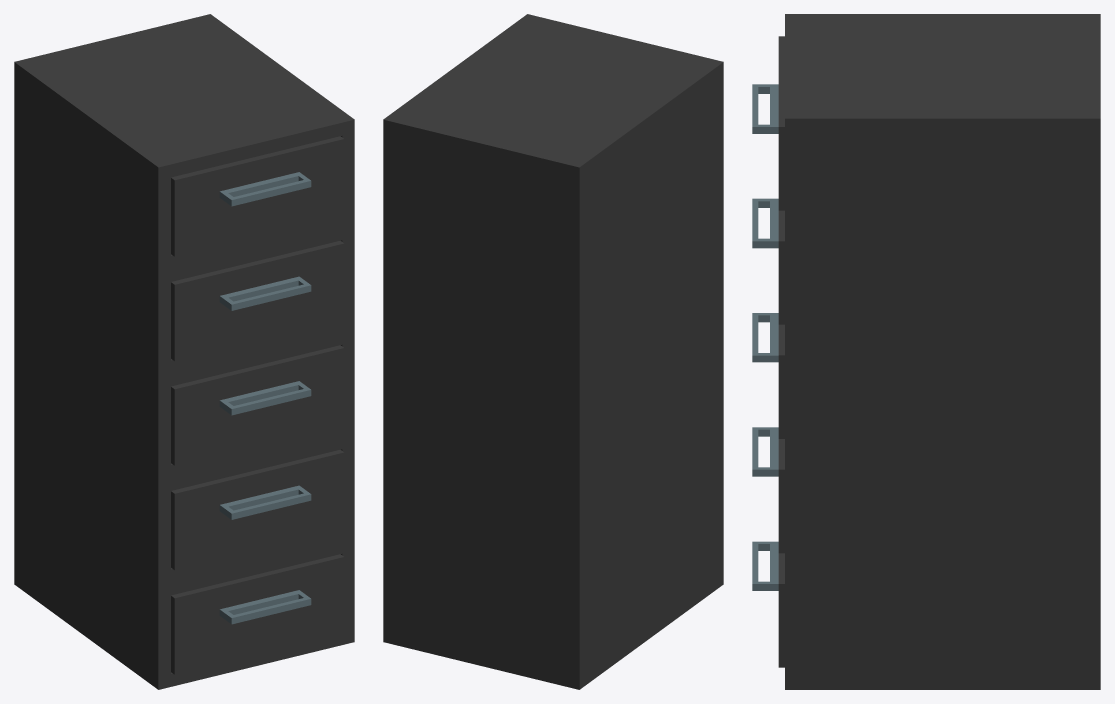
The model's file is CabinetXLargeV1Black.fbx.
3 views of the same model, side by side, from view 1: azimuth 30°, elevation 25°; view 2: azimuth 150°, elevation 25°; view 3: azimuth 270°, elevation 25° (orthographic). The views are drawn at different scales.
Parts seen in each view (by area): view 1: CabinetXLargeV1Black, CabinetXLargeV1Black_Drawer1, CabinetXLargeV1Black_Drawer5, CabinetXLargeV1Black_Drawer4, CabinetXLargeV1Black_Drawer2, CabinetXLargeV1Black_Drawer3; view 2: CabinetXLargeV1Black; view 3: CabinetXLargeV1Black, CabinetXLargeV1Black_Drawer1, CabinetXLargeV1Black_Drawer2, CabinetXLargeV1Black_Drawer5, CabinetXLargeV1Black_Drawer4, CabinetXLargeV1Black_Drawer3.
Part boxes in pixels (x1,y1,x2,y2): CabinetXLargeV1Black: (14, 14, 354, 689); CabinetXLargeV1Black_Drawer1: (171, 136, 344, 256); CabinetXLargeV1Black_Drawer5: (171, 554, 344, 674); CabinetXLargeV1Black_Drawer4: (171, 449, 344, 570); CabinetXLargeV1Black_Drawer2: (171, 240, 344, 361); CabinetXLargeV1Black_Drawer3: (171, 345, 344, 465); CabinetXLargeV1Black: (383, 14, 723, 689); CabinetXLargeV1Black: (785, 14, 1100, 689); CabinetXLargeV1Black_Drawer1: (752, 36, 784, 210); CabinetXLargeV1Black_Drawer2: (752, 198, 784, 324); CabinetXLargeV1Black_Drawer5: (752, 541, 784, 667); CabinetXLargeV1Black_Drawer4: (752, 427, 784, 553); CabinetXLargeV1Black_Drawer3: (752, 313, 784, 438).
Size of the model in its own units: 39.32 by 100 by 55.23.
